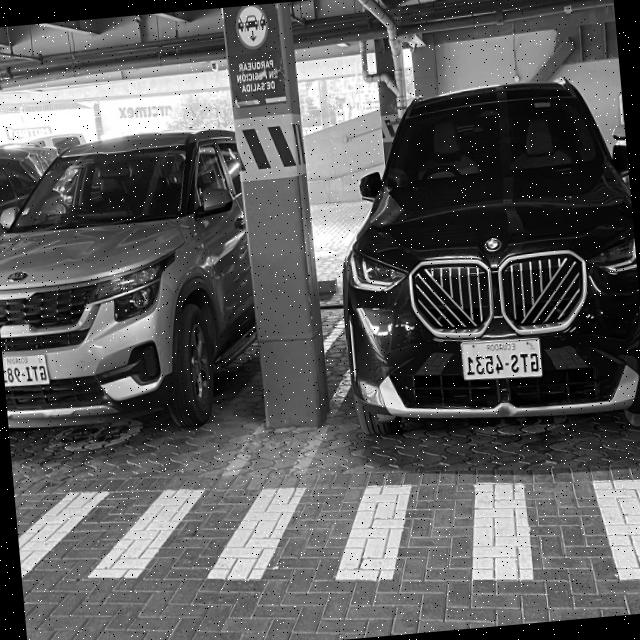Placa: (460, 339, 541, 380), (3, 355, 49, 386)
